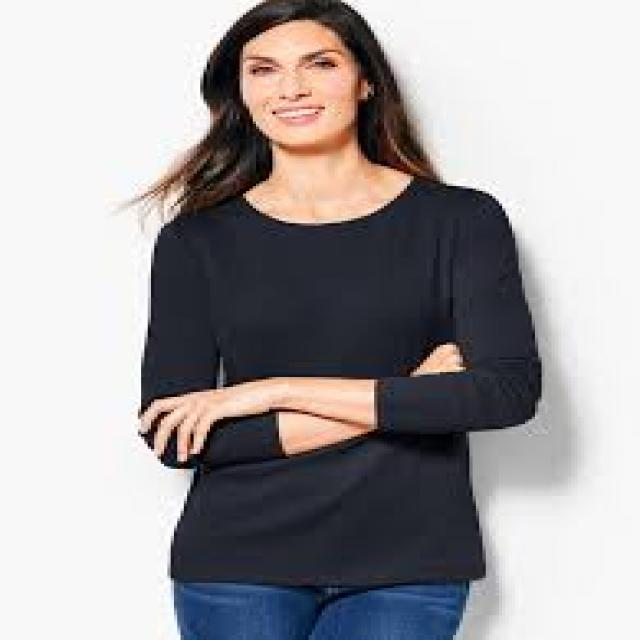plain: (121, 171, 545, 593)
